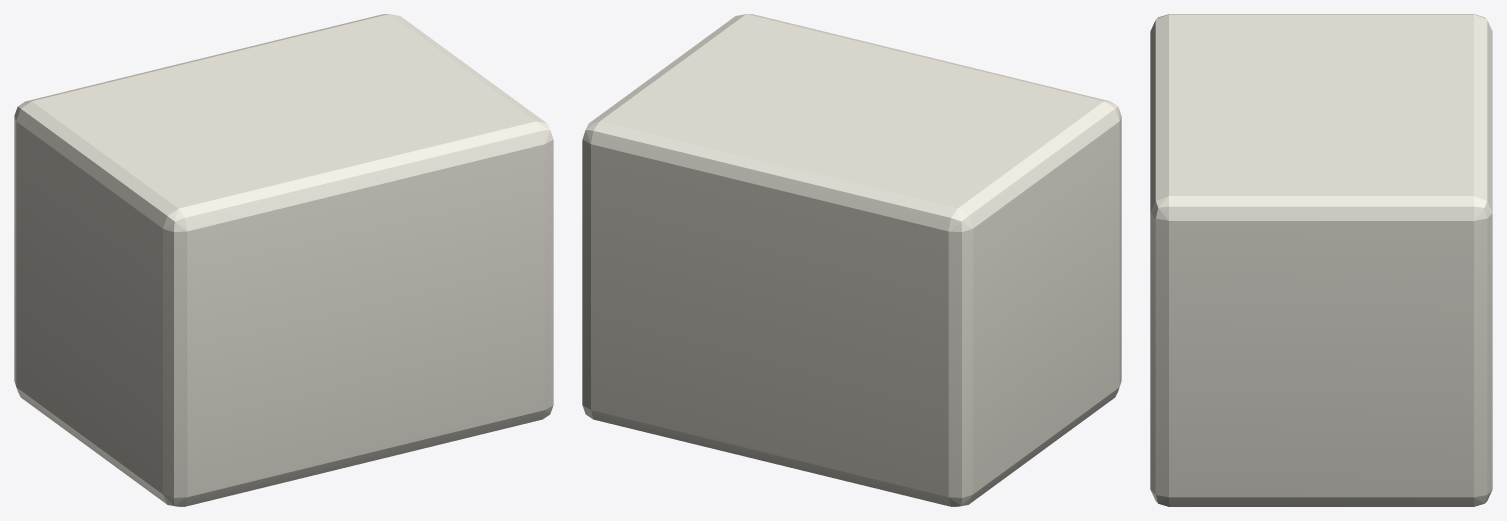
The model's file is tee_marker_block_white.glb.
3 views of the same model, side by side, from view 1: azimuth 30°, elevation 25°; view 2: azimuth 150°, elevation 25°; view 3: azimuth 270°, elevation 25° (orthographic). The views are drawn at different scales.
Visible parts, largest first — view 1: Body; view 2: Body; view 3: Body.
Boxes of the visible parts, x1,y1,x2,y2 form: Body: (14,14,553,506); Body: (582,14,1121,506); Body: (1150,14,1492,506).
Size of the model in its own units: 0.3 by 0.22 by 0.22.
1 material, 1 textured.
